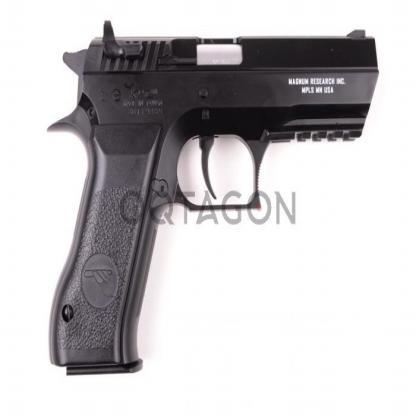Pistol: (43, 20, 378, 376)
